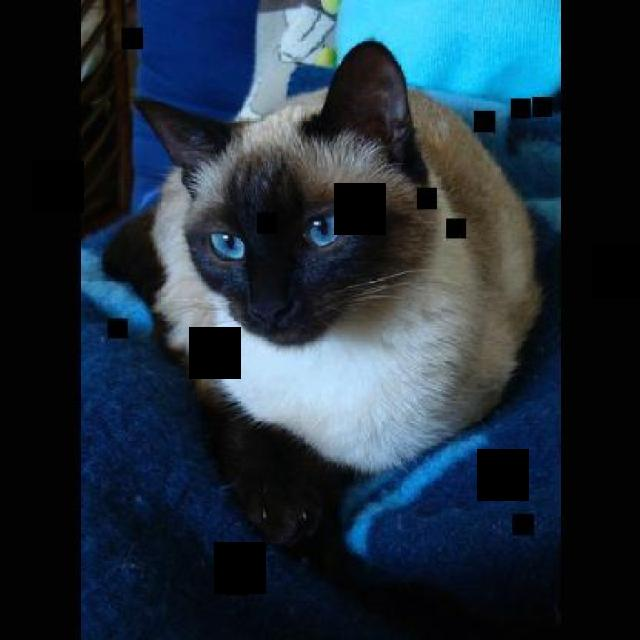unauthorized: (102, 37, 546, 552)
